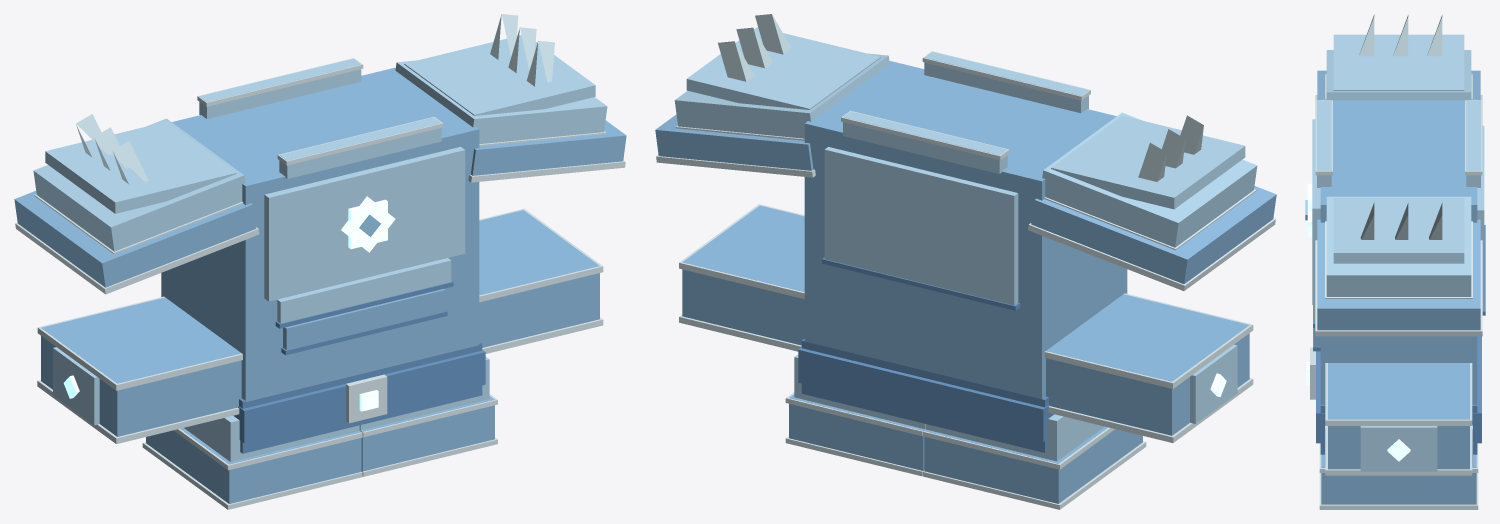
The picture shows the model from 3 angles, left to right: view 1: azimuth 30°, elevation 25°; view 2: azimuth 150°, elevation 25°; view 3: azimuth 270°, elevation 25°; orthographic projection. The views are drawn at different scales.
Parts seen in each view (by area): view 1: armor-glacier; view 2: armor-glacier; view 3: armor-glacier.
Boxes of the visible parts, x1,y1,x2,y2 form: armor-glacier: (14,14,626,509); armor-glacier: (655,14,1276,509); armor-glacier: (1305,14,1485,509).
Size of the model in its own units: 1.23 by 0.8209 by 0.3947.
